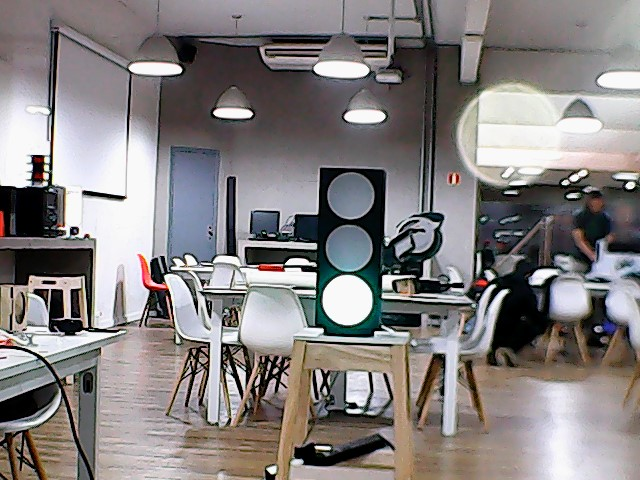verde: (309, 164, 389, 344)
